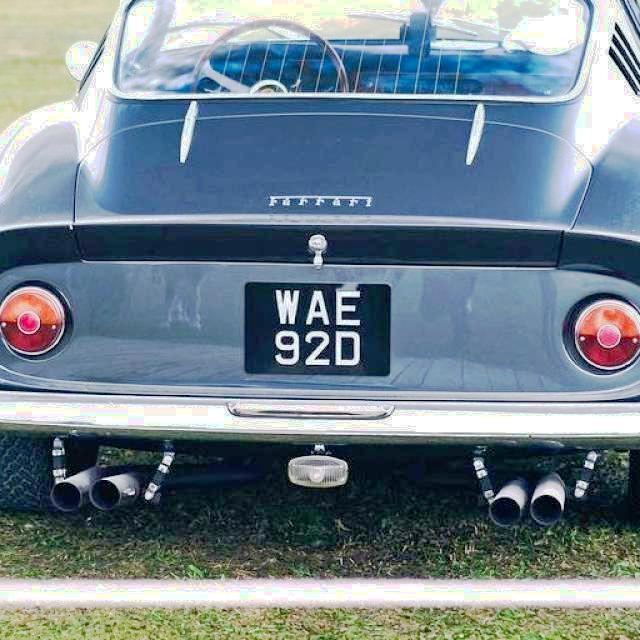license_plate: (231, 278, 403, 386)
